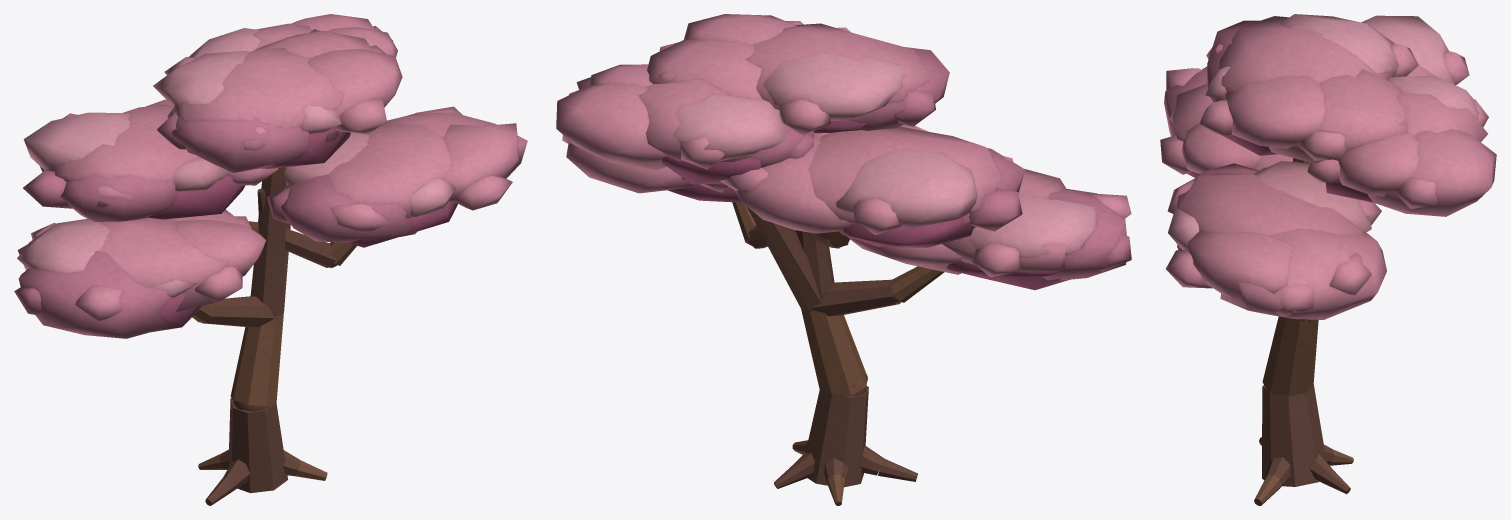
The model's file is Grand_Dojo_Blossom.glb.
3 renders of one model, left to right at view 1: azimuth 30°, elevation 25°; view 2: azimuth 150°, elevation 25°; view 3: azimuth 270°, elevation 25°, orthographic. The views are drawn at different scales.
Parts seen in each view (by area): view 1: Grand Dojo Blossom; view 2: Grand Dojo Blossom; view 3: Grand Dojo Blossom.
Boxes of the visible parts, left/top/right/bottom form: Grand Dojo Blossom: left=14, top=14, right=527, bottom=505; Grand Dojo Blossom: left=556, top=14, right=1131, bottom=505; Grand Dojo Blossom: left=1160, top=14, right=1496, bottom=505.
Size of the model in its own units: 13.89 by 10.73 by 7.34.
Materials: 1 (1 with a texture image).
